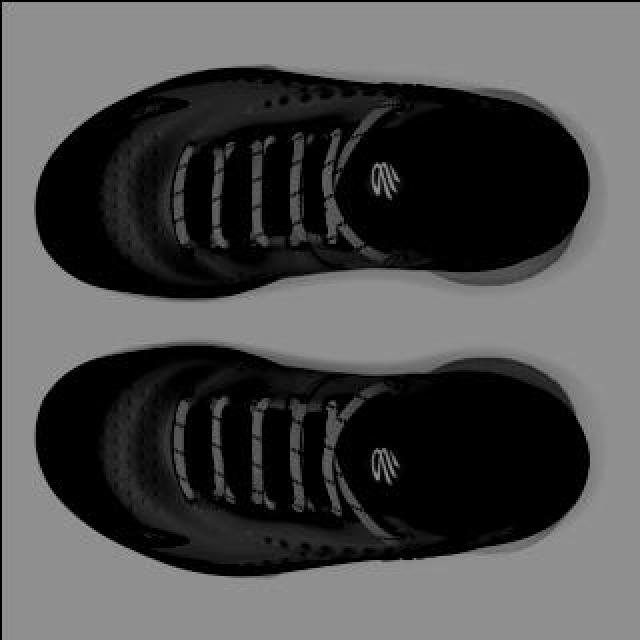shoe: (34, 63, 590, 303), (32, 341, 588, 577)
